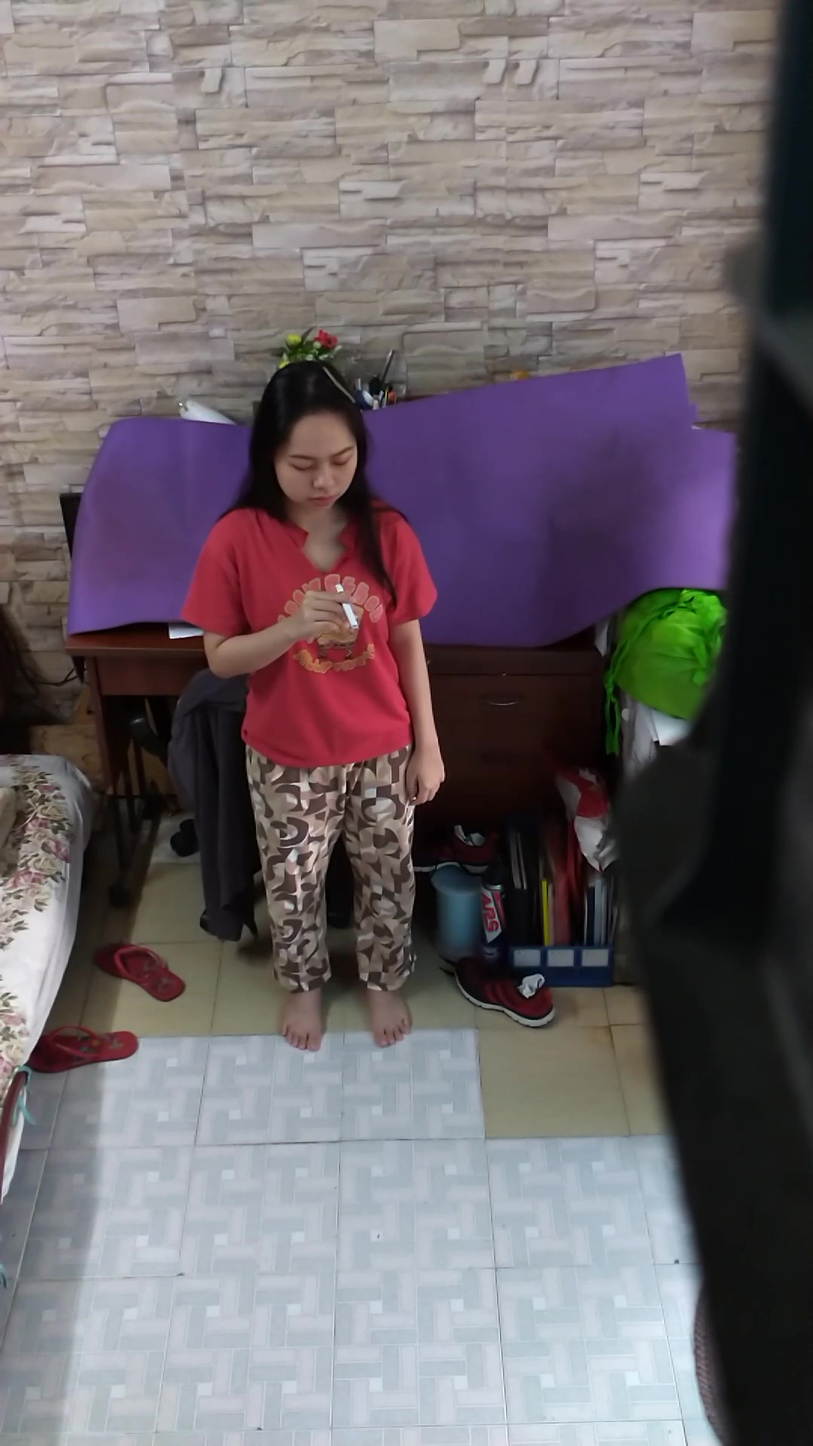cigarette: (340, 602, 361, 632)
person: (179, 353, 440, 1068)
